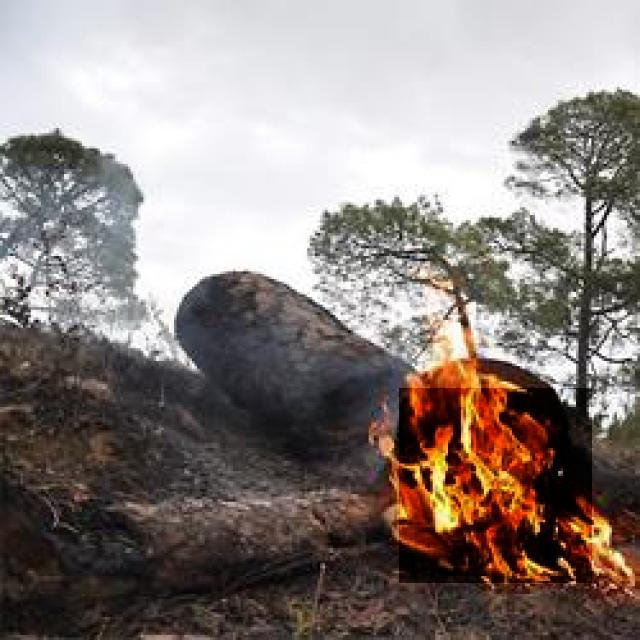Fire: (399, 388, 592, 583)
